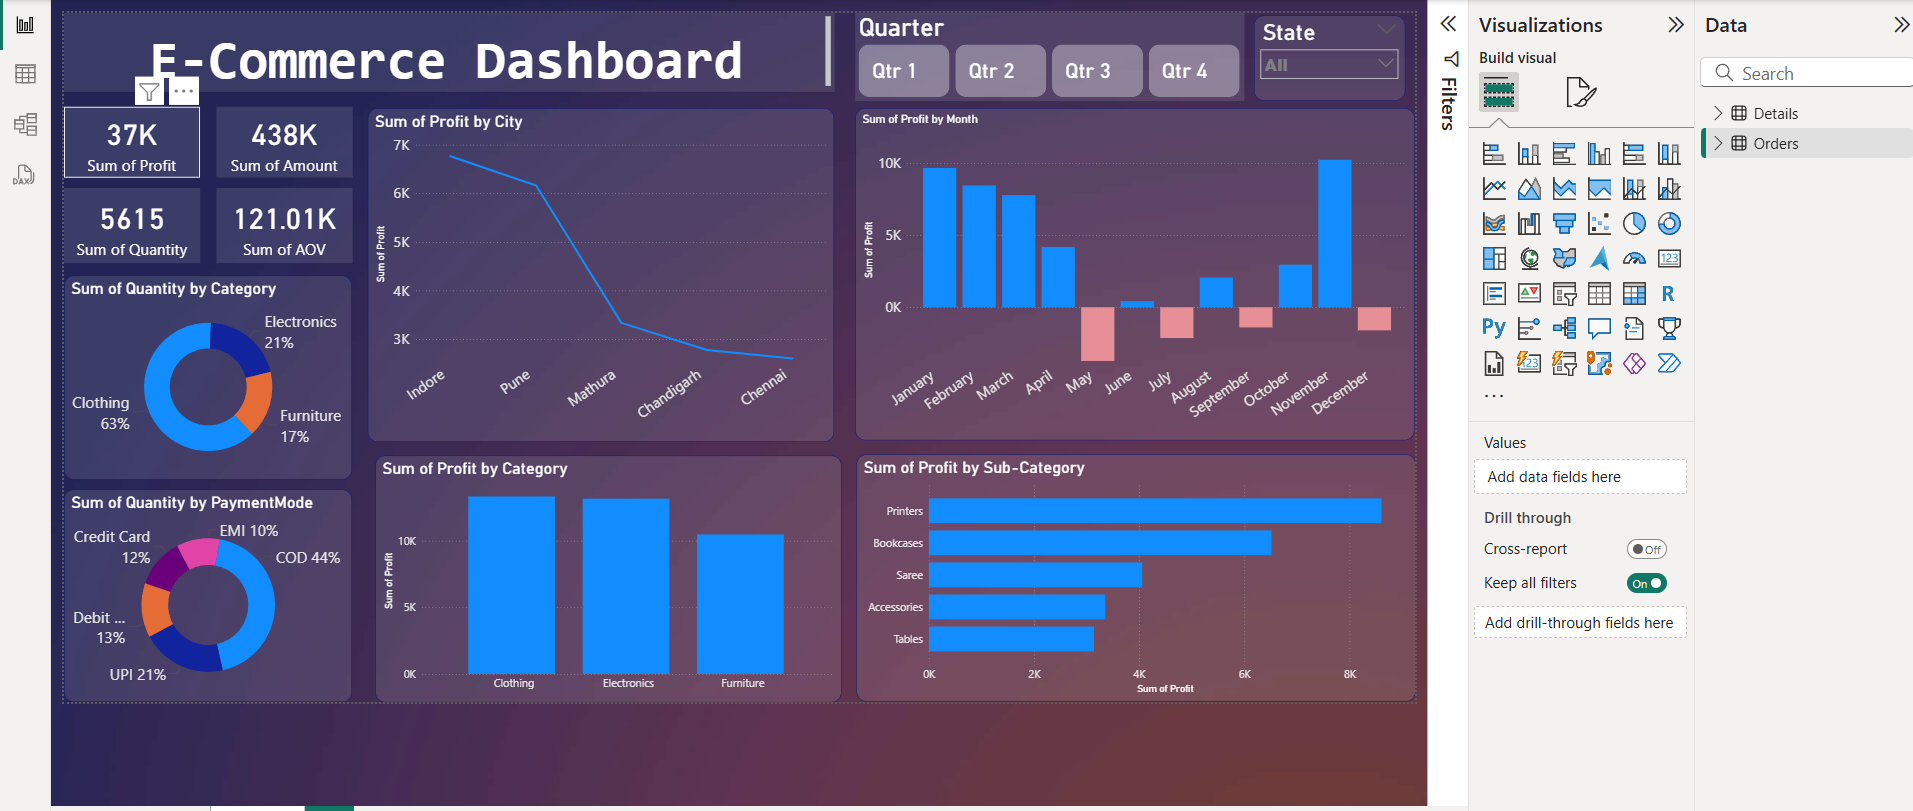

This screenshot's page, from the dashboard's own definition file:
{"tool":"powerbi","page":{"name":"Page 1","canvas":[2000,1020],"ordinal":0},"visuals":[{"type":"columnChart","fields":{"Category":["Details.Category"],"Y":["Sum(Details.Profit)"]},"box":[461,654.8,690.4,365.3],"z":0},{"type":"card","fields":{"Values":["Sum(Details.Profit)"]},"box":[0,139.4,201.5,105.1],"z":1000},{"type":"card","fields":{"Values":["Sum(Details.Amount)"]},"box":[225.1,139.4,201.5,105.1],"z":2000},{"type":"donutChart","fields":{"Y":["Sum(Details.Quantity)"],"Category":["Details.Category"]},"box":[0,388.1,426.7,302.3],"z":3000},{"type":"donutChart","fields":{"Y":["Sum(Details.Quantity)"],"Category":["Details.PaymentMode"]},"box":[0,705.4,426.7,315.2],"z":4000},{"type":"barChart","fields":{"Y":["Sum(Details.Profit)"],"Category":["Details.Sub-Category"]},"box":[1172.8,653.9,827.6,366.6],"z":5000},{"type":"columnChart","fields":{"Y":["Sum(Details.Profit)"],"Category":["Orders.Order Date.Variation.Date Hierarchy.Month"]},"box":[1172,140,828,492],"z":6000},{"type":"card","fields":{"Values":["Sum(Details.Quantity)"]},"box":[0,259.4,201.5,111.5],"z":7000},{"type":"card","fields":{"Values":["Sum(Details.AOV)"]},"box":[225.1,259.4,201.5,111.5],"z":8000},{"type":"advancedSlicerVisual","fields":{"Values":["Orders.Order Date.Variation.Date Hierarchy.Quarter"]},"box":[1172,0,576,130],"z":9000},{"type":"slicer","fields":{"Values":["Orders.State"]},"box":[1761.2,3.7,224.3,126.1],"z":10000},{"type":"lineChart","fields":{"Category":["Orders.City"],"Y":["Sum(Details.Profit)"]},"box":[450,140,690,494],"z":11000},{"type":"textbox","box":[0,0,1140.5,116.9],"z":12000}]}

Visuals, with their boxes on the page's 2000x1020 design canvas (x1, y1, x2, y2). These are canvas units, not pixel positions in the 1913x811 screenshot, which may show the page scaled, cropped or inside an application window:
columnChart - Details.Category x Sum(Details.Profit): 461/655/1151/1020
card - Sum(Details.Profit): 0/139/202/244
card - Sum(Details.Amount): 225/139/427/244
donutChart - Sum(Details.Quantity) x Details.Category: 0/388/427/690
donutChart - Sum(Details.Quantity) x Details.PaymentMode: 0/705/427/1021
barChart - Sum(Details.Profit) x Details.Sub-Category: 1173/654/2000/1020
columnChart - Sum(Details.Profit) x Orders.Order Date.Variation.Date Hierarchy.Month: 1172/140/2000/632
card - Sum(Details.Quantity): 0/259/202/371
card - Sum(Details.AOV): 225/259/427/371
advancedSlicerVisual - Orders.Order Date.Variation.Date Hierarchy.Quarter: 1172/0/1748/130
slicer - Orders.State: 1761/4/1986/130
lineChart - Orders.City x Sum(Details.Profit): 450/140/1140/634
textbox: 0/0/1140/117
